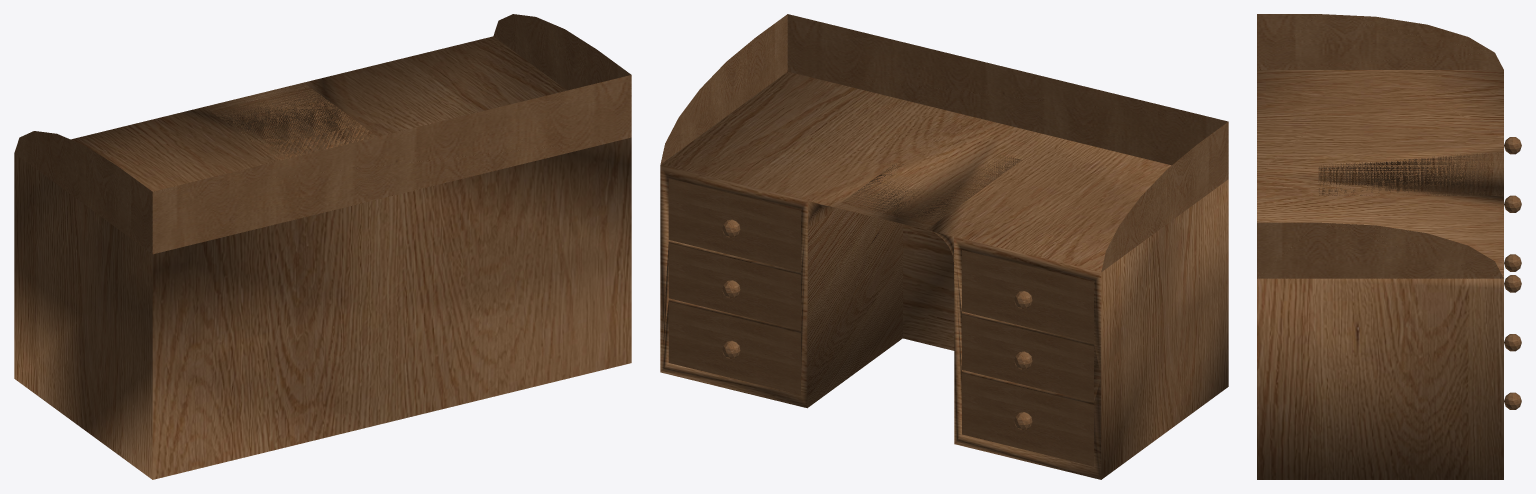
File: Desk.glb
3 renders of one model, left to right at view 1: azimuth 30°, elevation 25°; view 2: azimuth 150°, elevation 25°; view 3: azimuth 270°, elevation 25°, orthographic. The views are drawn at different scales.
Parts seen in each view (by area): view 1: Desk, Side Panel; view 2: Desk, Side Panel, Drawer1, Drawer5, Drawer6, Drawer2, Drawer3, Drawer4; view 3: Desk, Side Panel.
Part boxes in pixels (box(x1,y1,x2,y2)): Desk: box(14, 36, 631, 479); Side Panel: box(14, 14, 631, 254); Desk: box(660, 71, 1228, 479); Side Panel: box(660, 14, 1228, 271); Drawer1: box(668, 178, 800, 271); Drawer5: box(668, 301, 800, 394); Drawer6: box(962, 373, 1093, 466); Drawer2: box(962, 250, 1093, 343); Drawer3: box(668, 243, 800, 330); Drawer4: box(962, 314, 1093, 401); Desk: box(1257, 70, 1503, 479); Side Panel: box(1257, 14, 1503, 278).
Bounding box in the file's own units: 4 × 2.3 × 2.15.
Materials: 1 (1 with a texture image).
